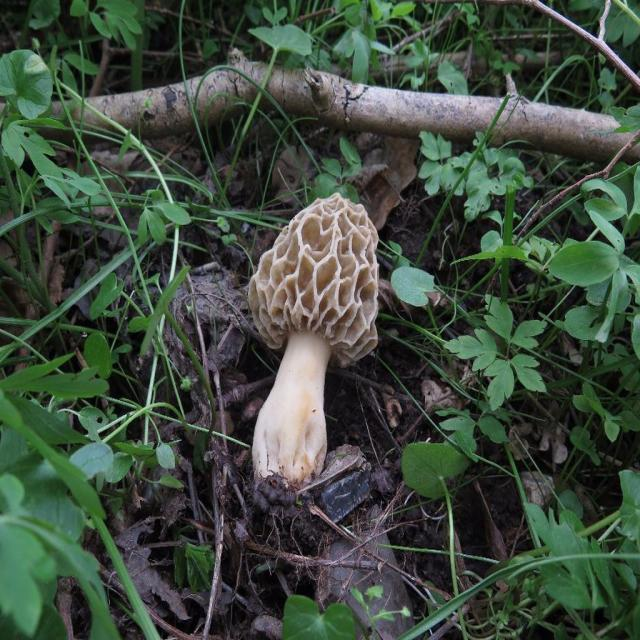Morchella esculenta: (243, 200, 381, 501)
